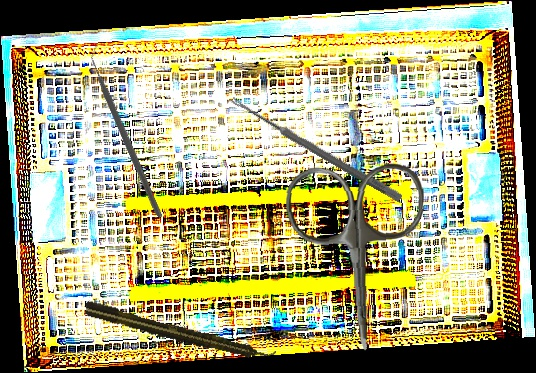Chopper: (35, 42, 222, 219)
Handpiece: (83, 298, 277, 368)
Iris Scissors: (284, 161, 432, 355)
Surgical Spoon: (228, 95, 404, 203)
